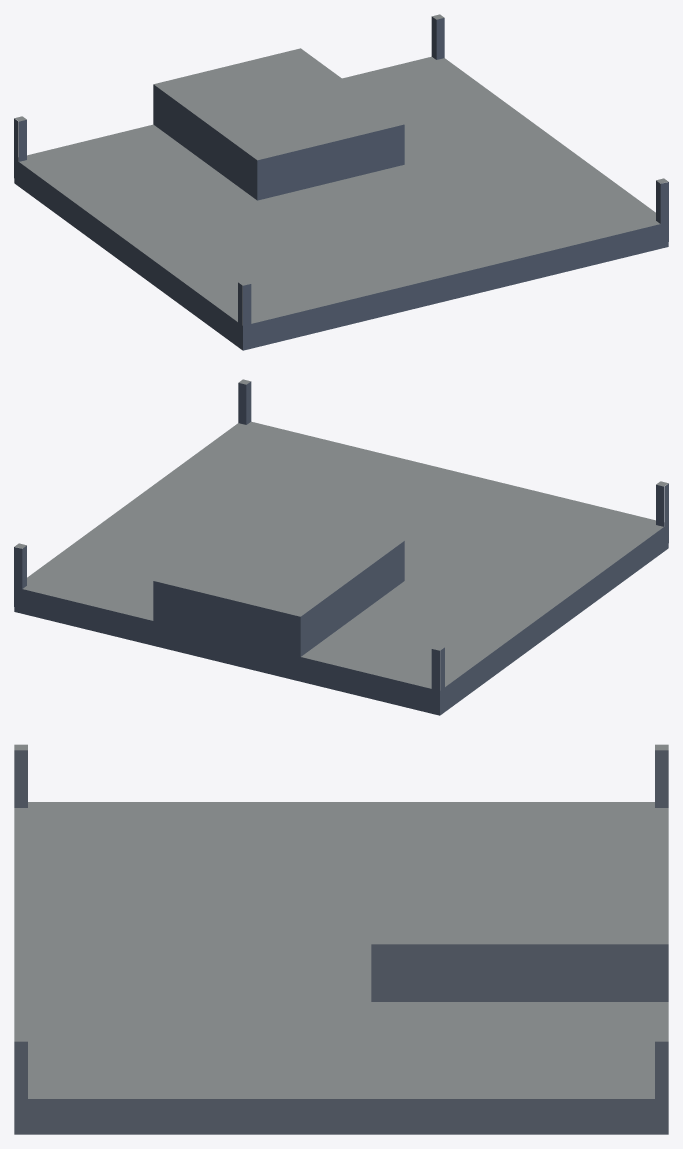
The model's file is office-roof-b.far-facades-v2.lod2.glb.
3 views of the same model, one above another, from view 1: azimuth 30°, elevation 25°; view 2: azimuth 150°, elevation 25°; view 3: azimuth 270°, elevation 25° (orthographic). The views are drawn at different scales.
Parts seen in each view (by area): view 1: office-roof-b; view 2: office-roof-b; view 3: office-roof-b.
Boxes of the visible parts, left/top/right/bottom form: office-roof-b: left=14, top=14, right=668, bottom=350; office-roof-b: left=14, top=379, right=668, bottom=715; office-roof-b: left=14, top=744, right=668, bottom=1134.
Bounding box in the file's own units: 26.03 × 3.8 × 24.23.
